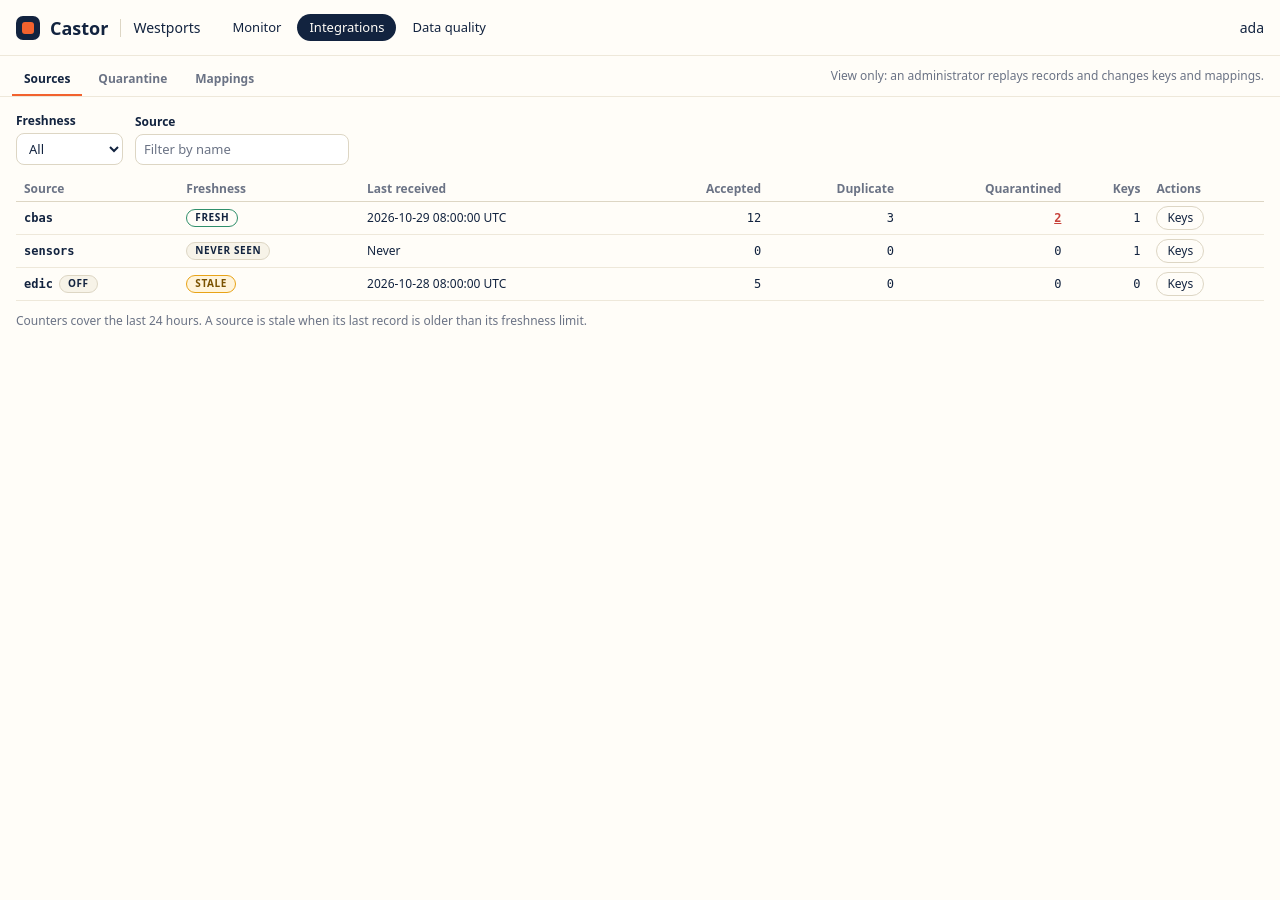
Test: Integrations page › Sources › lets an operator see the keys but not change them
Click the button with aria-label "Keys of cbas" at x=1180, y=218, box [1156,206,1204,230]
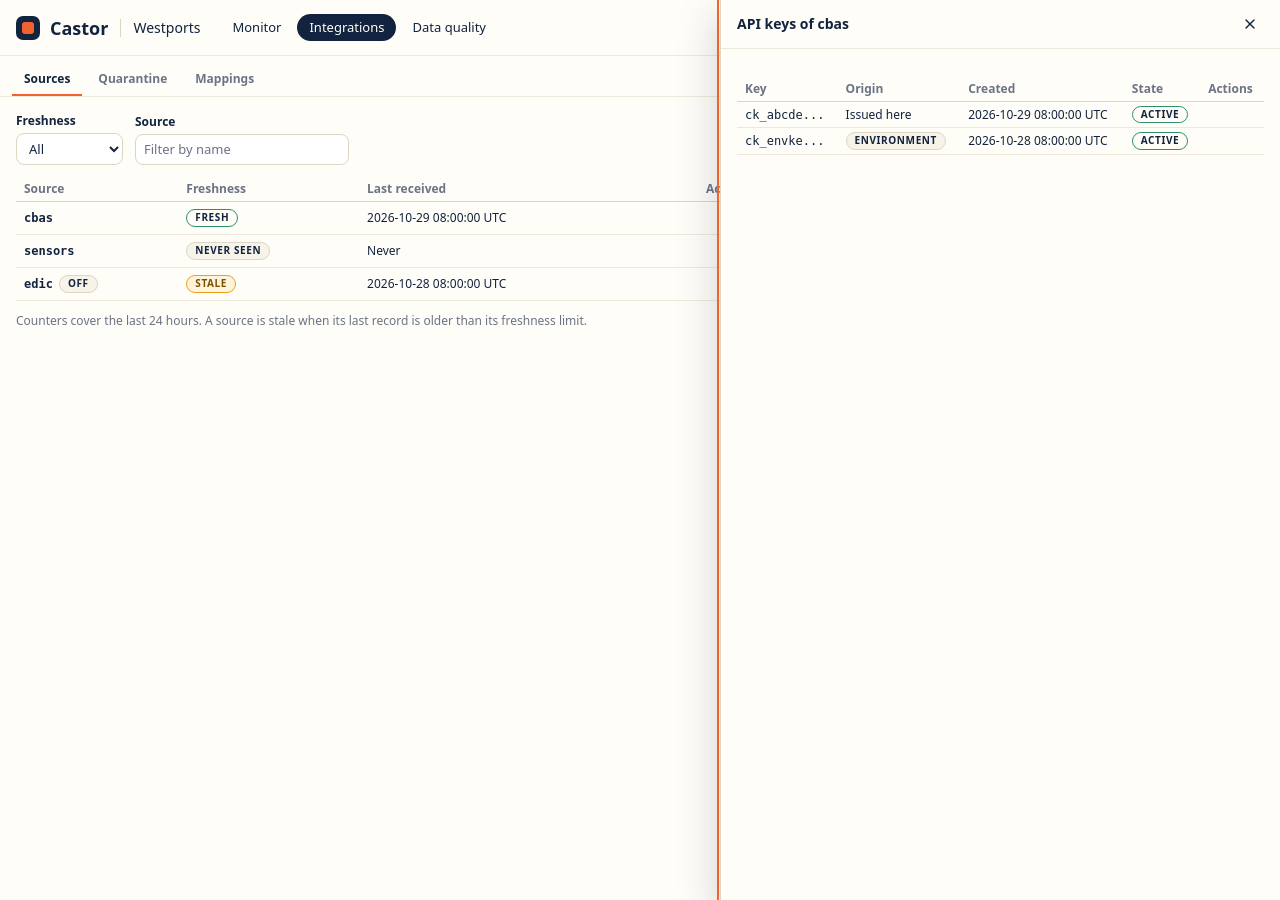
Expected: the text "View only" is shown, [831,67,1264,84]
Result: the text "ck_abcde..." is shown at [745,108,824,122]
